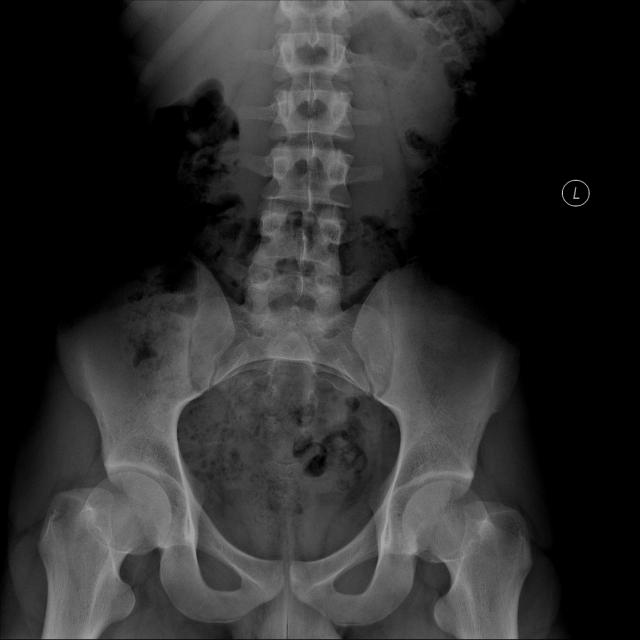normal-left: (401, 480, 532, 640)
normal-right: (38, 473, 171, 640)
